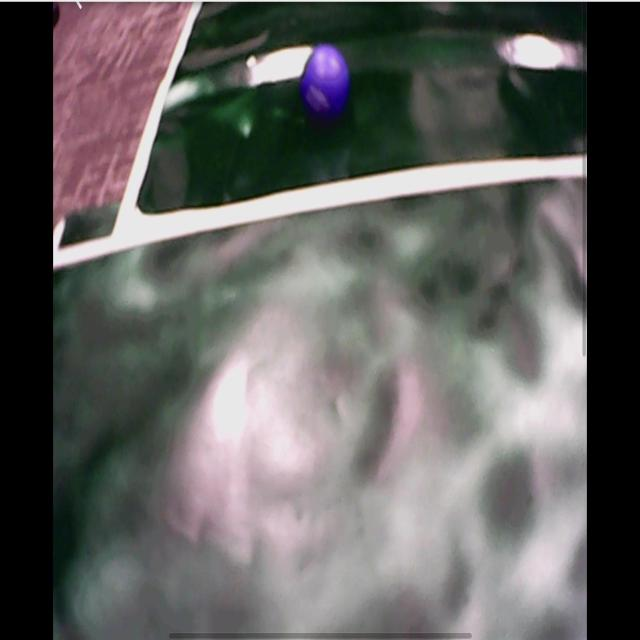ball: (302, 46, 350, 115)
